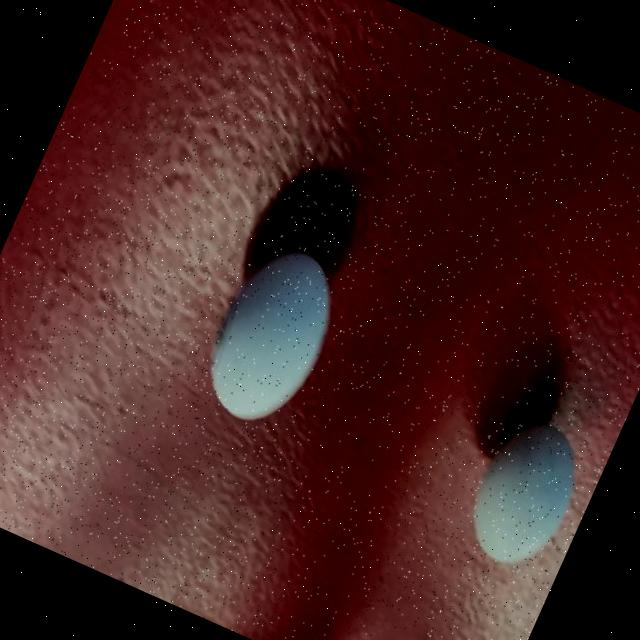ping-pong-ball: (182, 228, 360, 447), (446, 399, 602, 588)
